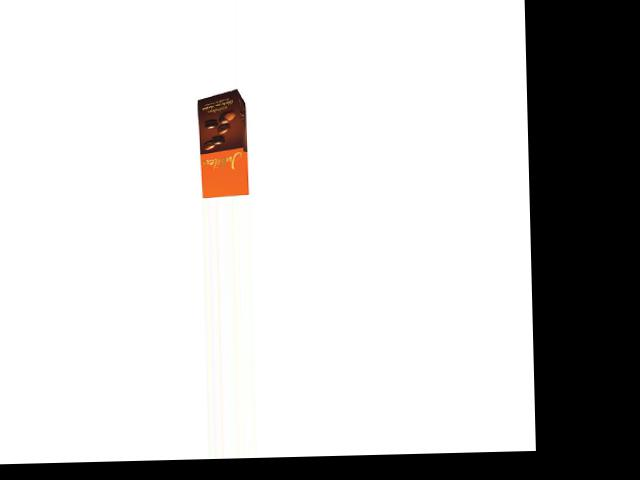chocolate: (191, 90, 251, 197)
